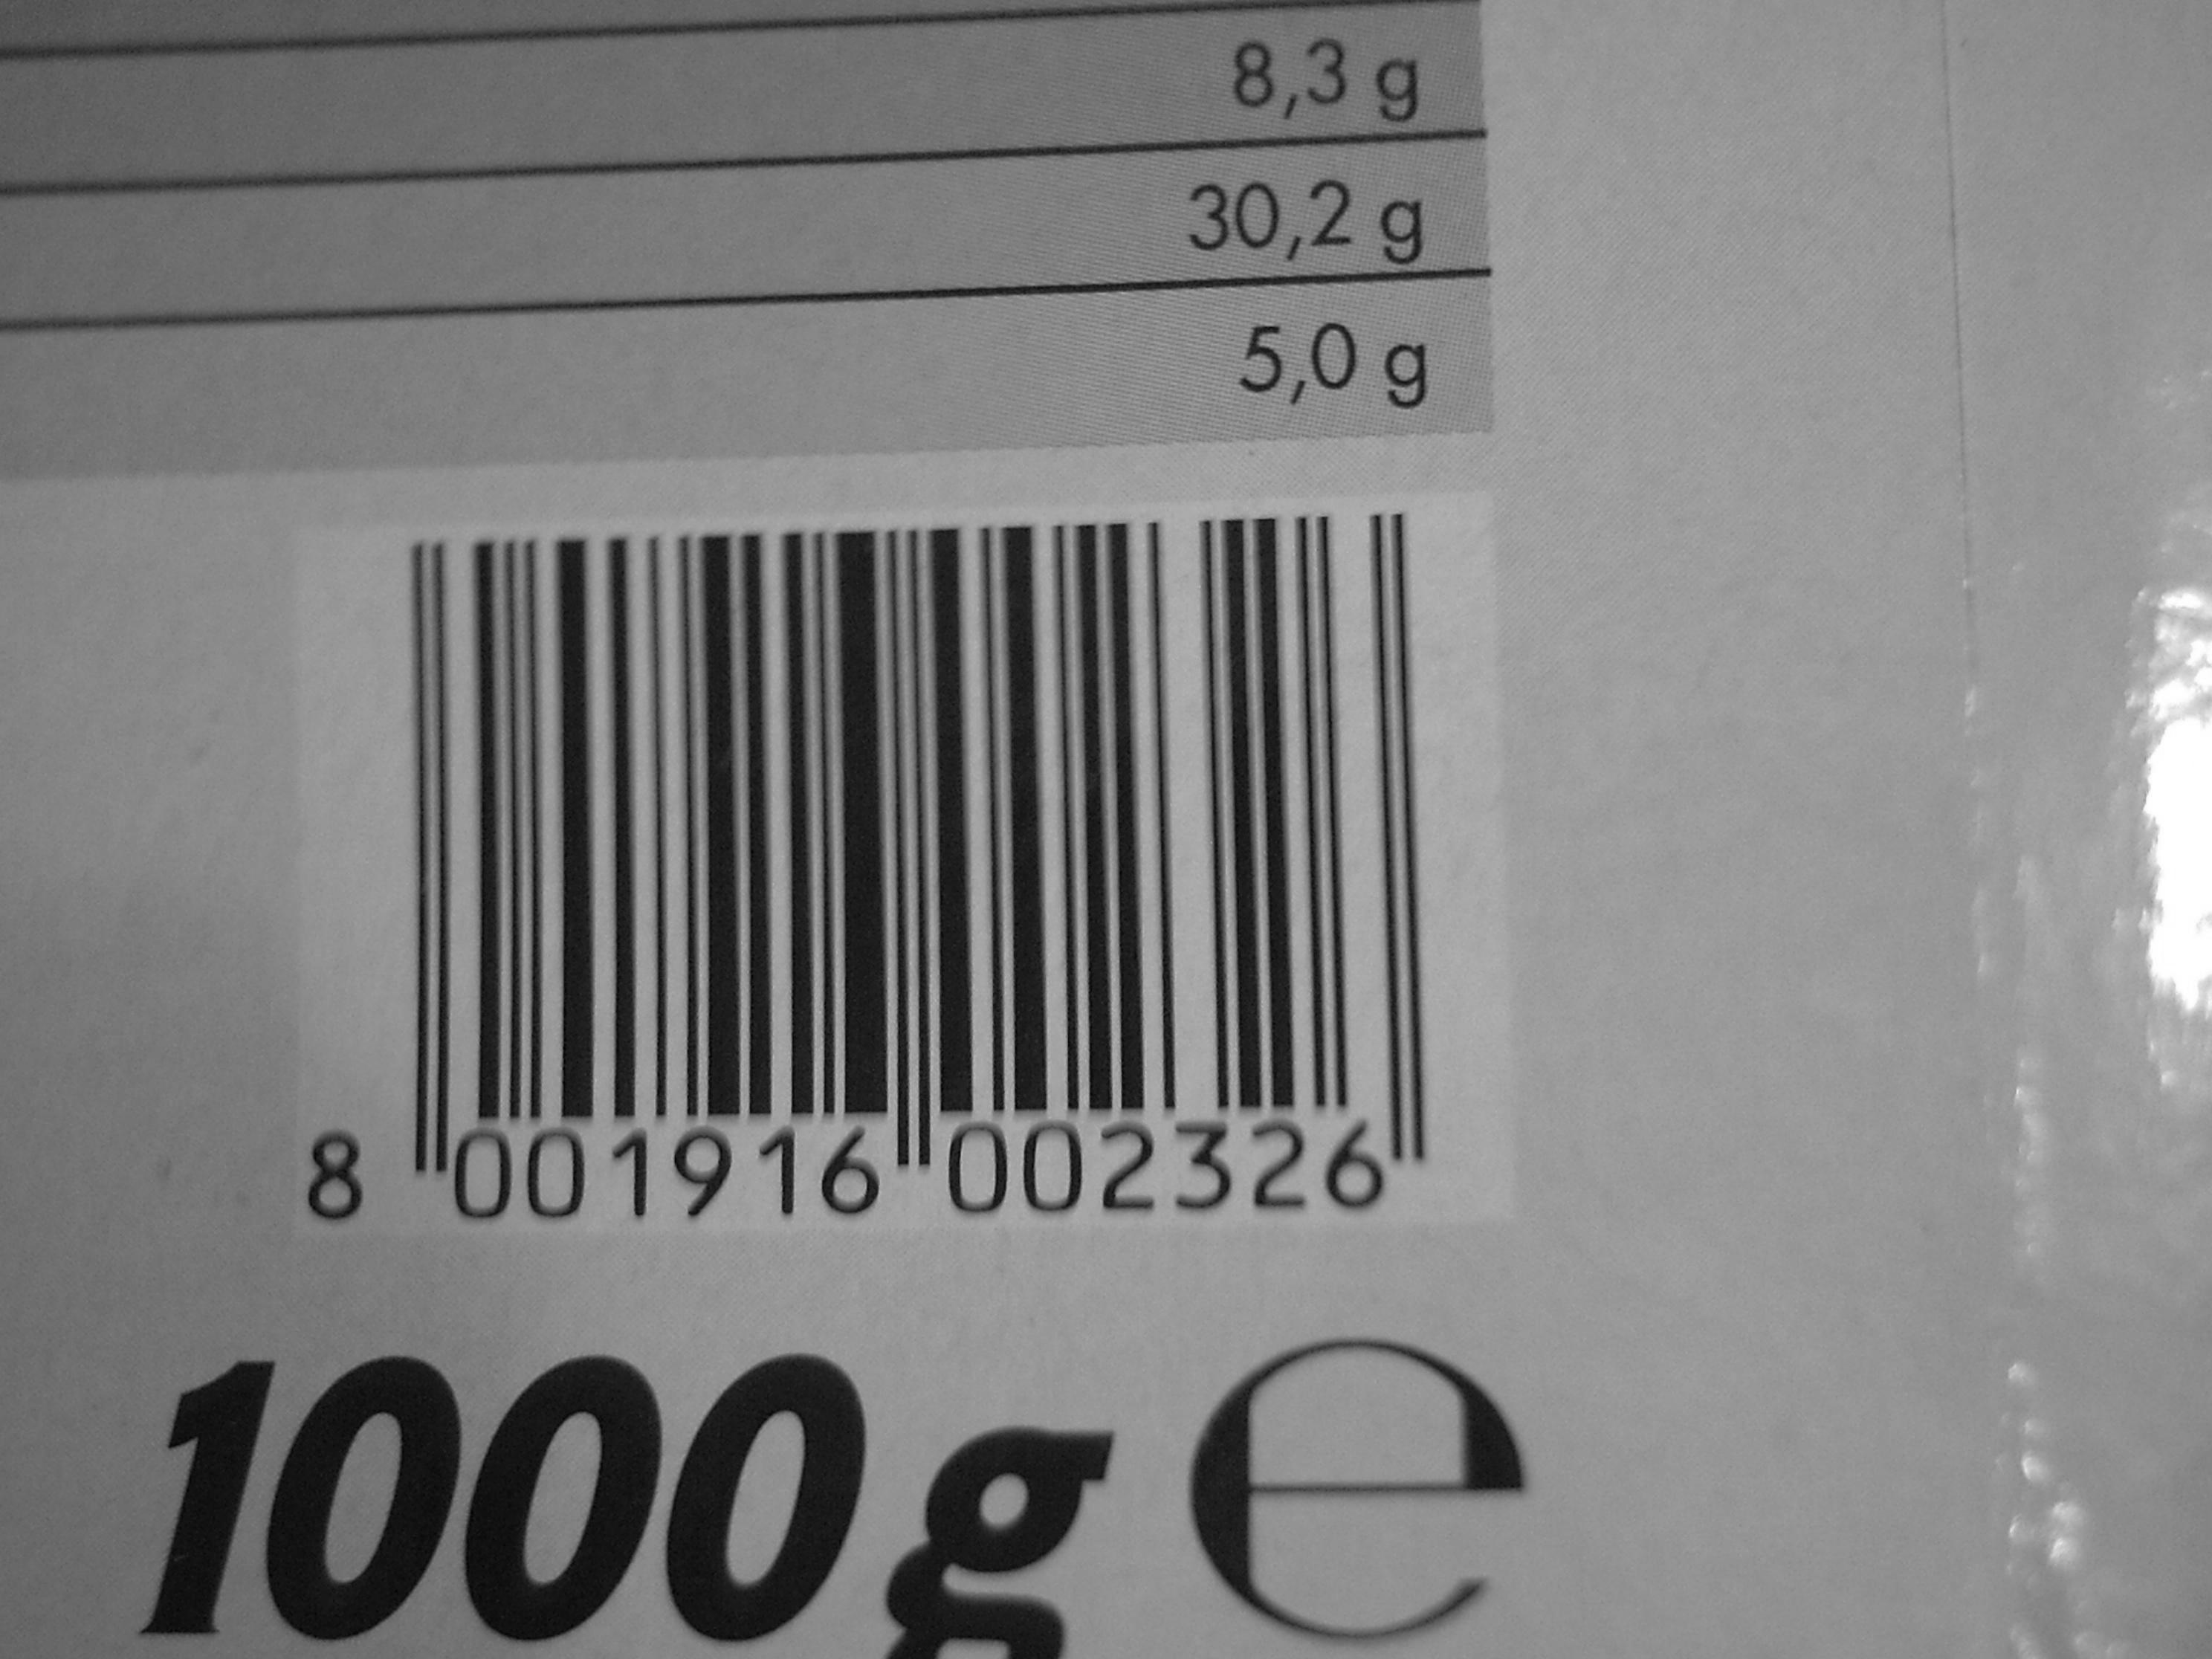Barcode: (331, 460, 1487, 1202)
